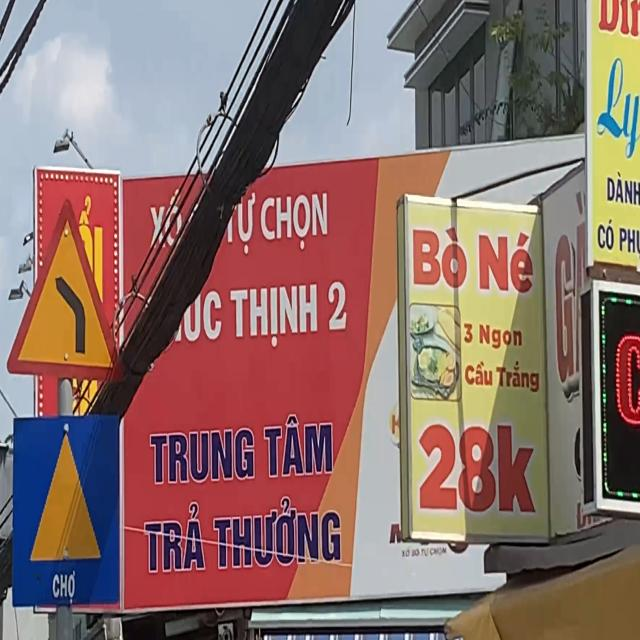Nguy hiem: (5, 196, 124, 384)
